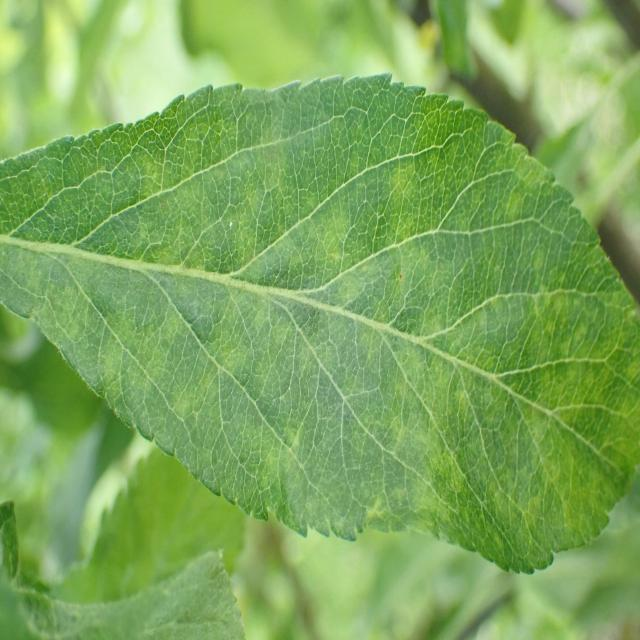scab: (31, 109, 606, 539)
